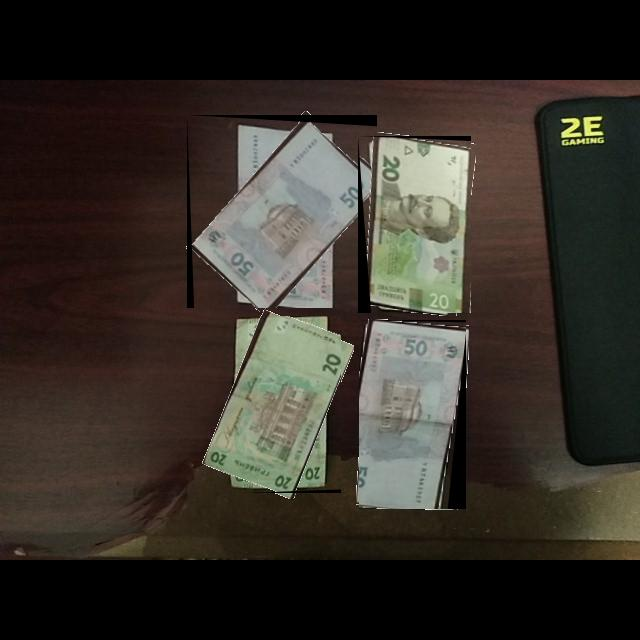20uah: (216, 316, 342, 494), (358, 136, 472, 314)
50uah: (192, 121, 378, 309), (359, 320, 467, 510)
